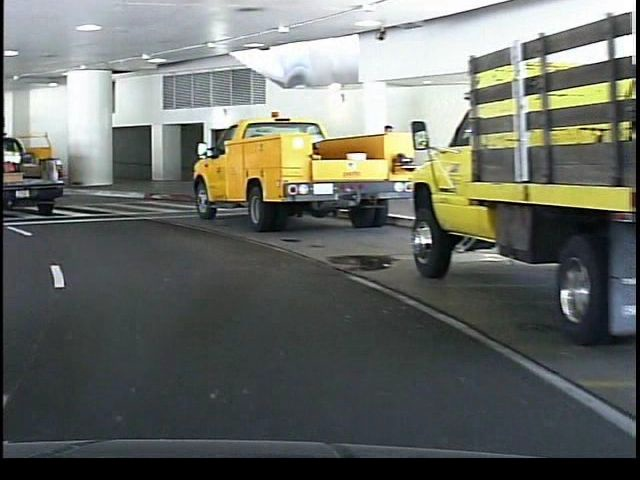person: (374, 118, 402, 206)
